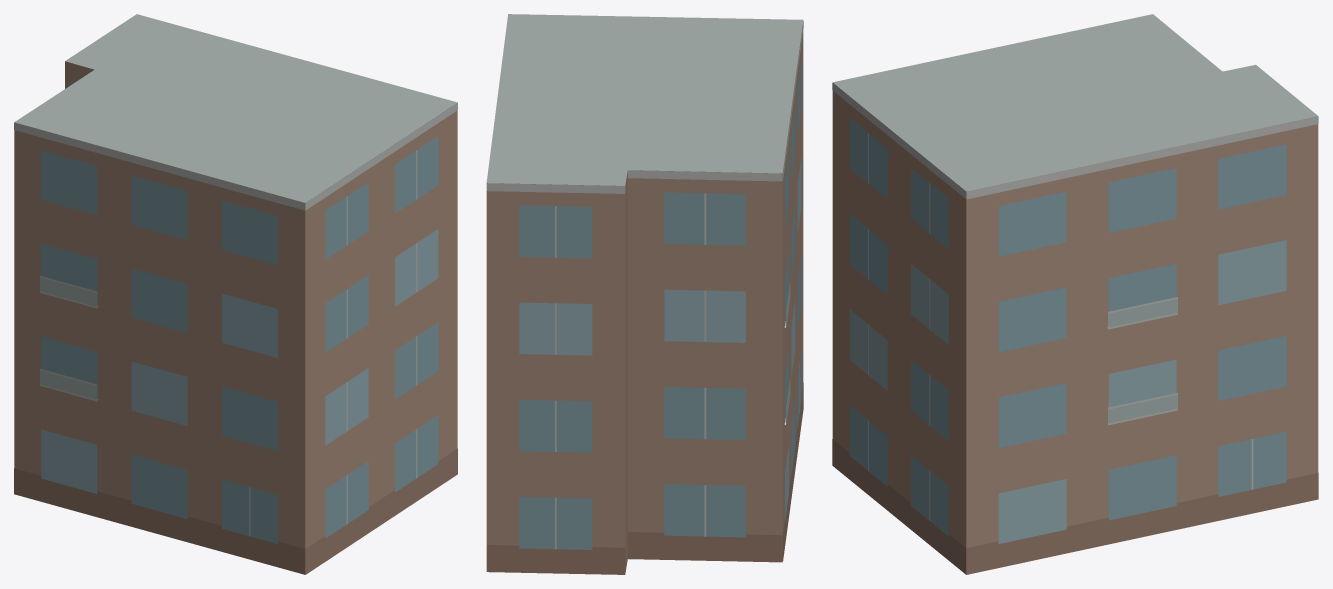
The model's file is survey-upis-32731808.glb.
The picture shows the model from 3 angles, left to right: view 1: azimuth 30°, elevation 25°; view 2: azimuth 150°, elevation 25°; view 3: azimuth 270°, elevation 25°; orthographic projection. The views are drawn at different scales.
Visible parts, largest first — view 1: survey-upis-32731808.tmp; view 2: survey-upis-32731808.tmp; view 3: survey-upis-32731808.tmp.
Boxes of the visible parts, <box> form: survey-upis-32731808.tmp: <box>14,14,457,574</box>; survey-upis-32731808.tmp: <box>486,14,803,574</box>; survey-upis-32731808.tmp: <box>832,14,1318,574</box>.
Bounding box in the file's own units: 11.74 × 11.8 × 13.57.
